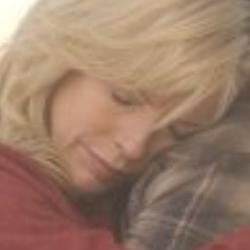face: (2, 4, 245, 192)
